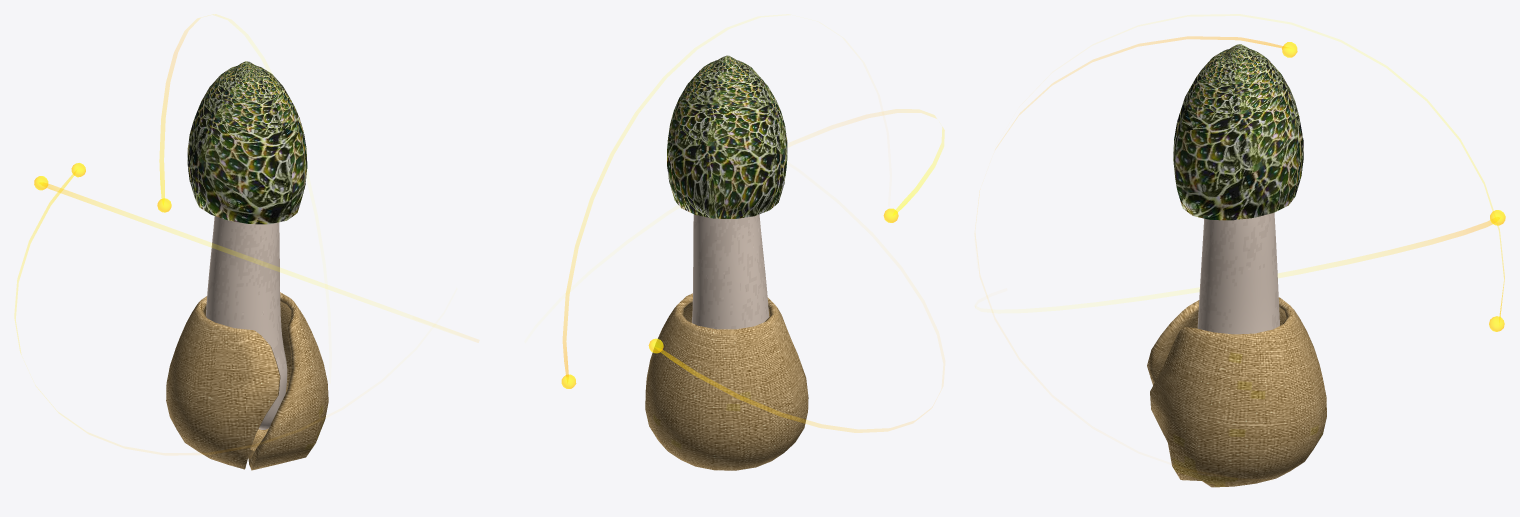
The model's file is mushes.glb.
The picture shows the model from 3 angles, left to right: view 1: azimuth 30°, elevation 25°; view 2: azimuth 150°, elevation 25°; view 3: azimuth 270°, elevation 25°; orthographic projection. The views are drawn at different scales.
Visible parts, largest first — view 1: BezierCurve.012, BezierCurve.007, BezierCurve.009, atom1.002, atom1.001, atom1.003; view 2: BezierCurve.012, BezierCurve.007, BezierCurve.009, atom1.001, atom1.003, atom1.002; view 3: BezierCurve.012, BezierCurve.007, BezierCurve.009, atom1.003, atom1.002, atom1.001.
Part boxes in pixels (x1,y1,x2,y2): BezierCurve.012: (166, 292, 328, 470); BezierCurve.007: (187, 61, 307, 224); BezierCurve.009: (206, 216, 287, 429); atom1.002: (34, 176, 287, 273); atom1.001: (157, 14, 215, 212); atom1.003: (15, 163, 85, 352); BezierCurve.012: (645, 293, 808, 470); BezierCurve.007: (667, 55, 787, 218); BezierCurve.009: (692, 214, 769, 329); atom1.001: (561, 92, 653, 388); atom1.003: (648, 338, 903, 432); atom1.002: (883, 109, 944, 222); BezierCurve.012: (1147, 297, 1326, 487); BezierCurve.007: (1173, 44, 1303, 220); BezierCurve.009: (1197, 213, 1279, 334); atom1.003: (1278, 210, 1505, 277); atom1.002: (1019, 36, 1297, 114); atom1.001: (1360, 51, 1504, 331).
Bounding box in the file's own units: 4.39 × 5 × 4.93.
Materials: 4 (4 with a texture image).
